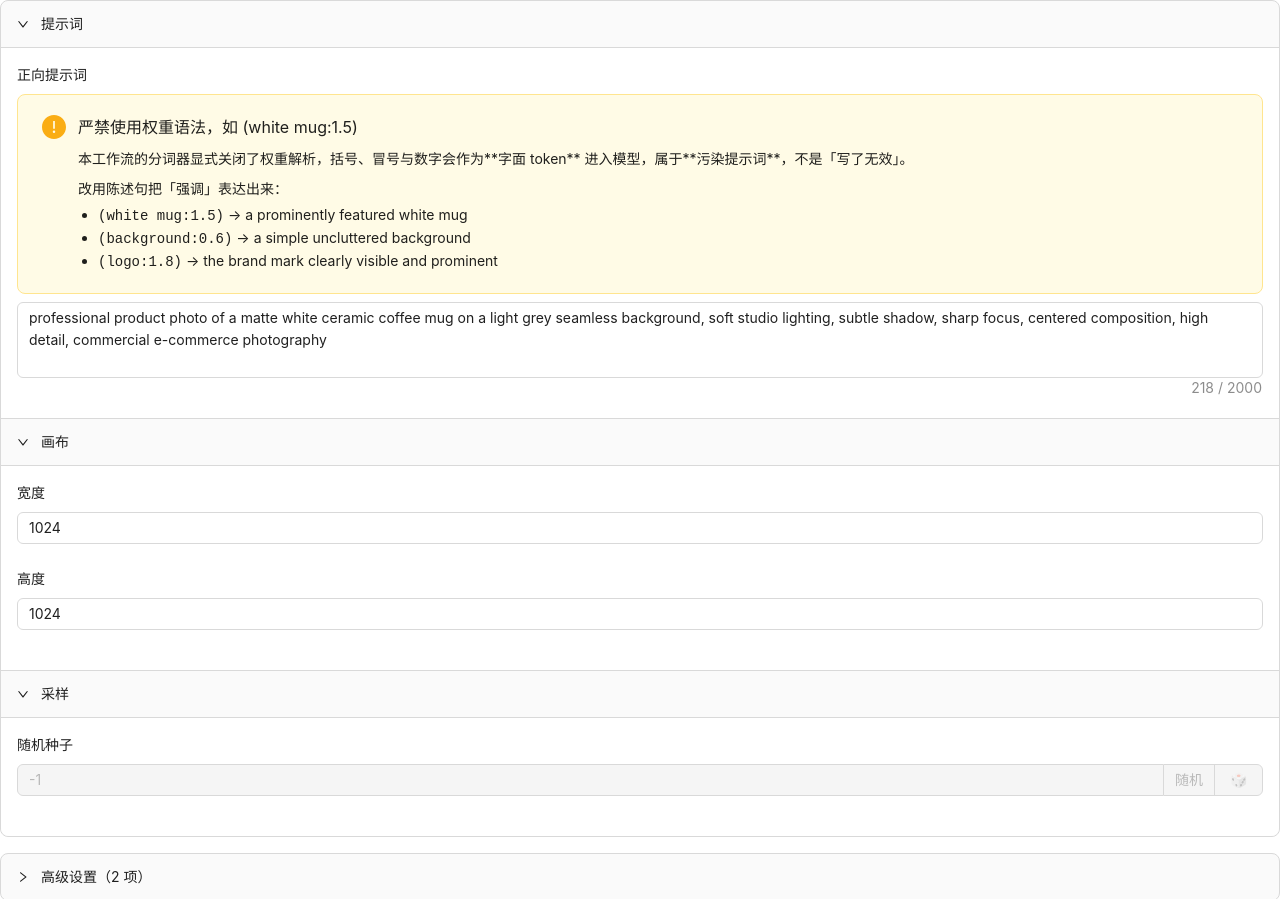
Test case: 提示词护栏（klein 严禁权重语法） › 输入里出现权重写法时给出实时提示
Replace the text in the text box named "正向提示词" with "a (mug:1.5) on wood": (640, 340) [18, 303, 1262, 377]
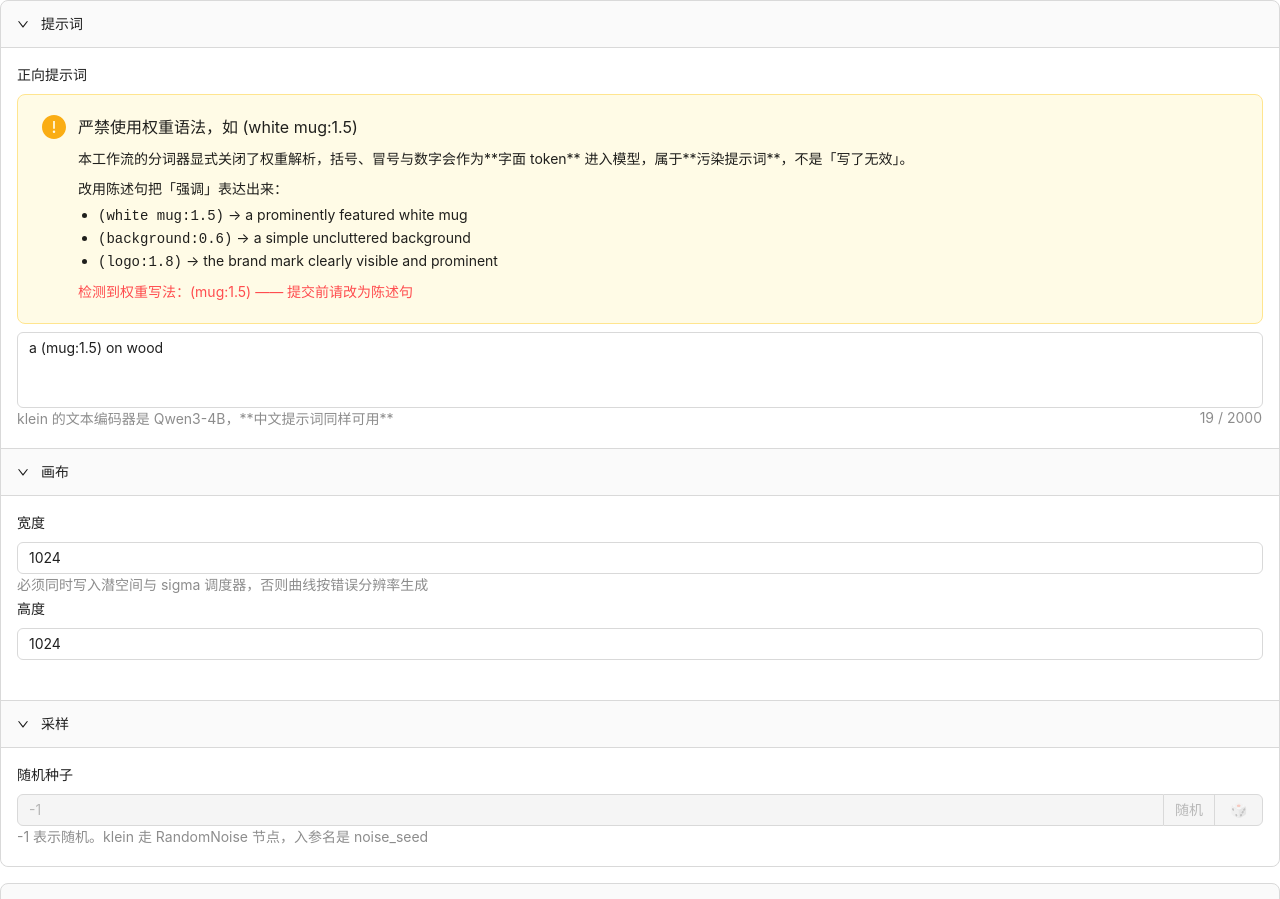
Expected: the text "检测到权重写法：(mug:1.5) —— 提交前请改为陈述句" is shown, [78, 283, 413, 300]
